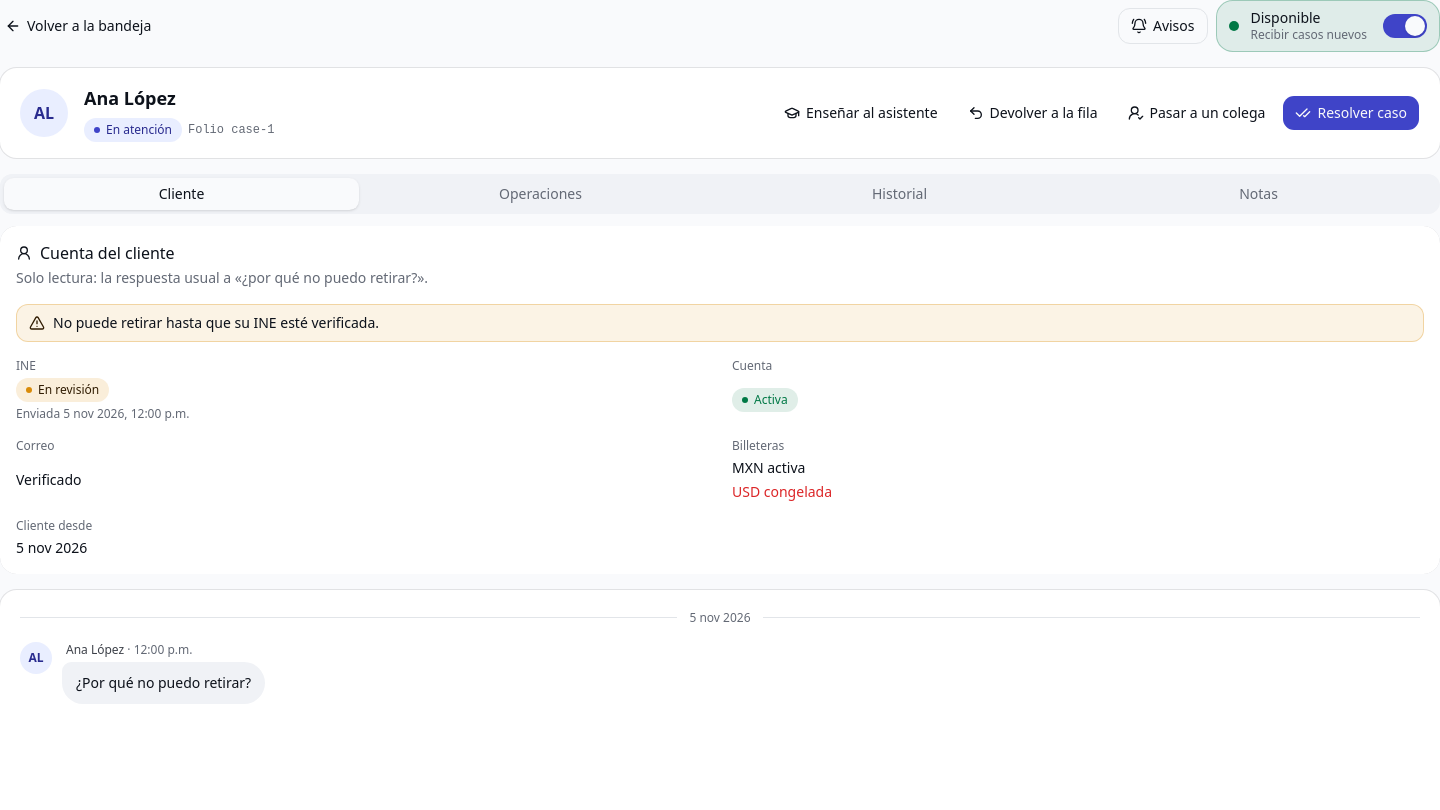
Scenario: handing the case over › says when there is no one to pass it to
The image size is (1440, 810).
Click the button "Pasar a un colega".
click(1196, 112)  # box [1114,94,1278,130]
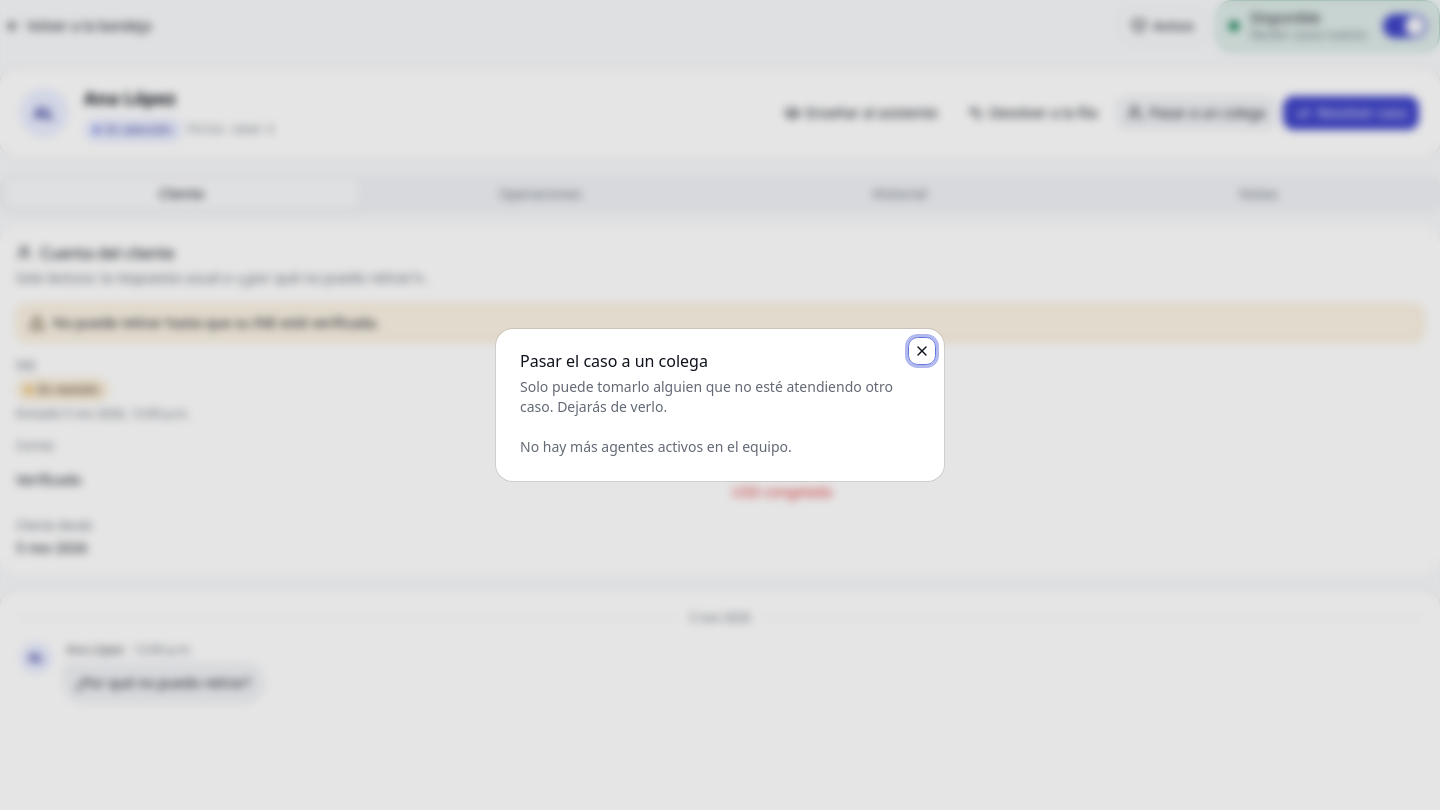
Expected: the text "No hay más agentes activos en el equipo." is shown, [520,437,792,456]
